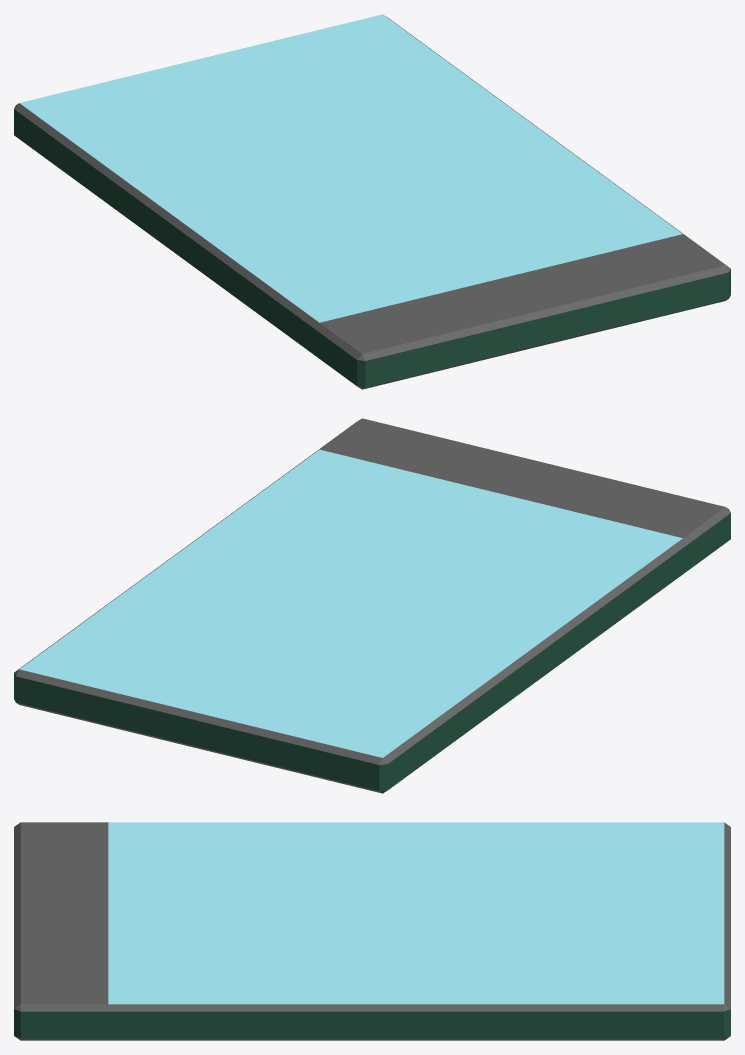
File: Phone03.fbx
The picture shows the model from 3 angles, top to bottom: view 1: azimuth 30°, elevation 25°; view 2: azimuth 150°, elevation 25°; view 3: azimuth 270°, elevation 25°; orthographic projection. The views are drawn at different scales.
Visible parts, largest first — view 1: Phone03; view 2: Phone03; view 3: Phone03.
Part boxes in pixels (x1,y1,x2,y2): Phone03: [14, 14, 730, 389]; Phone03: [14, 418, 730, 793]; Phone03: [14, 822, 730, 1040].
Bounding box in the file's own units: 0.0989 × 0.16 × 0.009.
